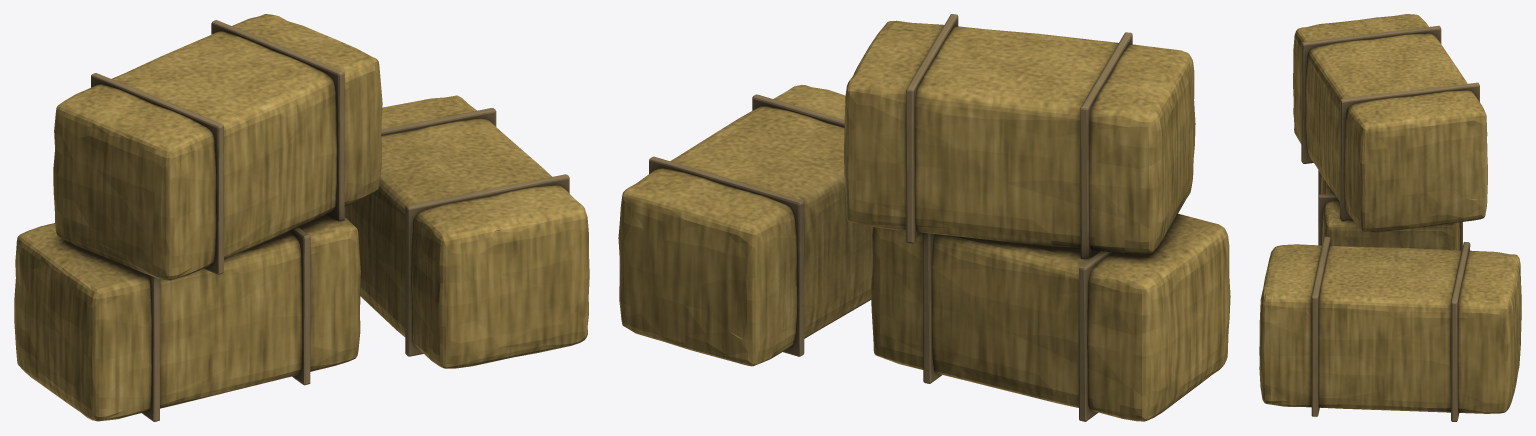
The model's file is cenario_feno.glb.
3 renders of one model, left to right at view 1: azimuth 30°, elevation 25°; view 2: azimuth 150°, elevation 25°; view 3: azimuth 270°, elevation 25°, orthographic. The views are drawn at different scales.
Visible parts, largest first — view 1: cenario_feno_tronco; view 2: cenario_feno_tronco; view 3: cenario_feno_tronco.
Part boxes in pixels (box(x1,y1,x2,y2)): cenario_feno_tronco: box(14, 14, 589, 421); cenario_feno_tronco: box(618, 14, 1230, 421); cenario_feno_tronco: box(1259, 14, 1521, 421).
Bounding box in the file's own units: 1.94 × 1.11 × 1.12.
1 material, 1 textured.
